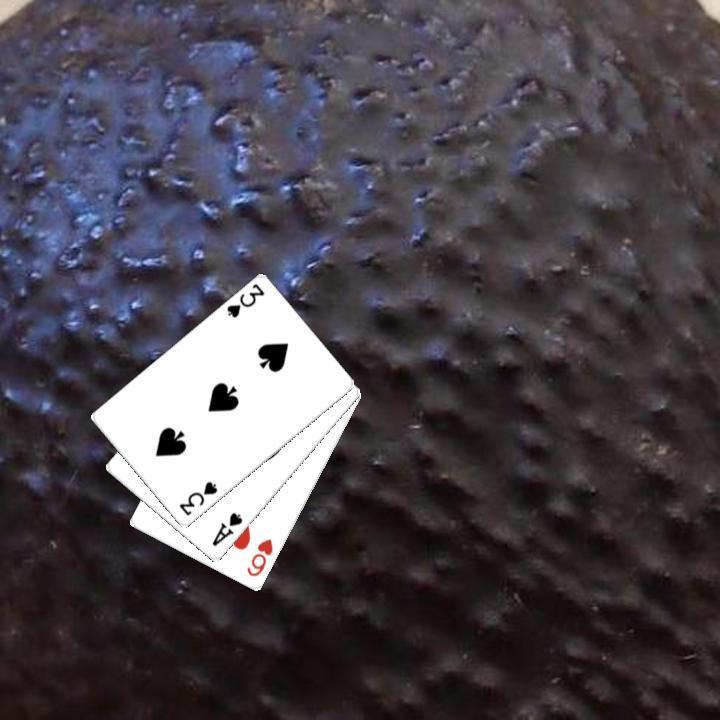3: (175, 477, 219, 518), (222, 280, 266, 321)
6: (242, 535, 275, 579)
A: (207, 508, 245, 549)
